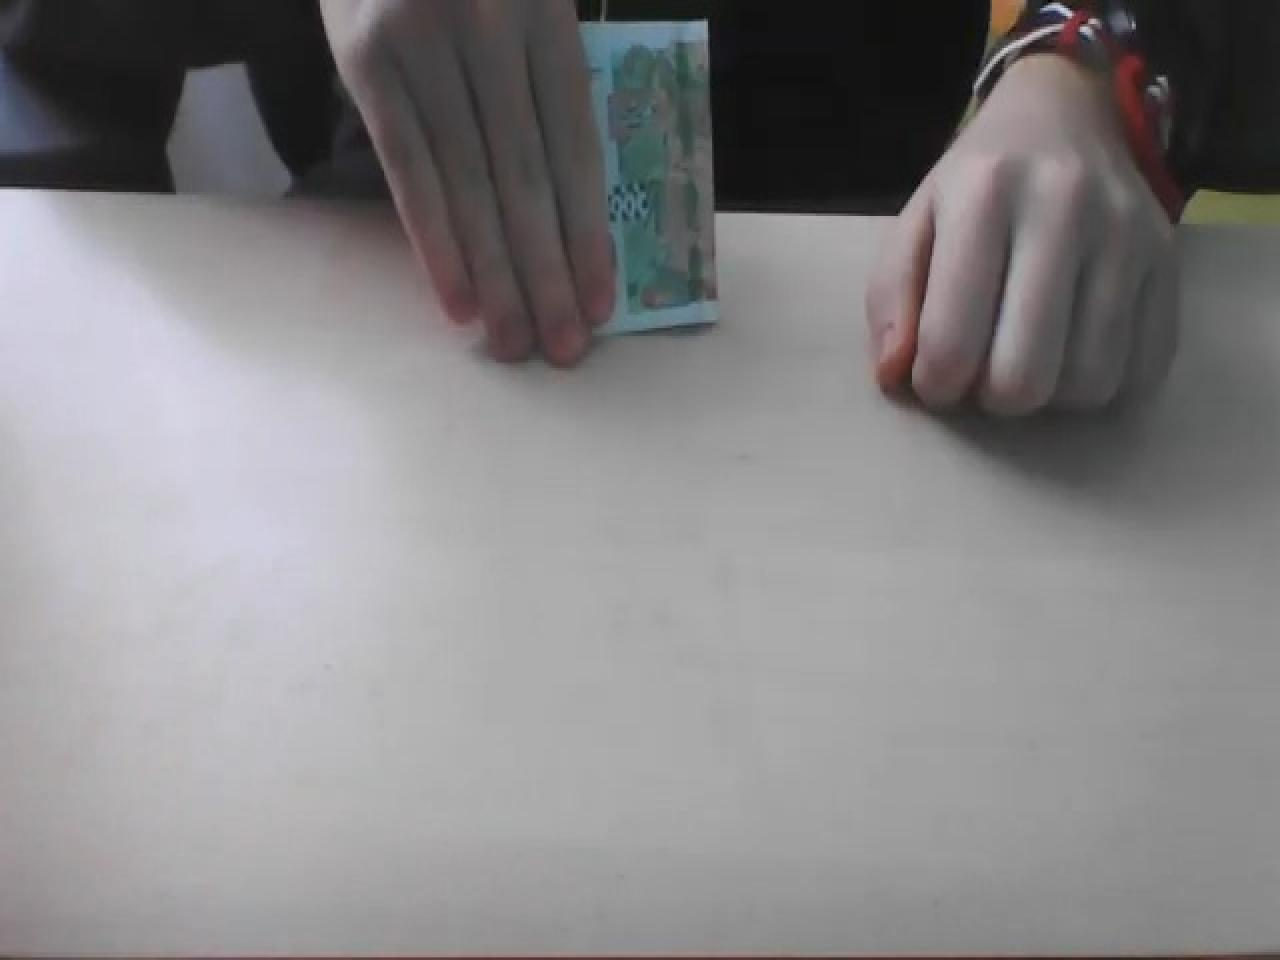100leva: (578, 0, 720, 336)
